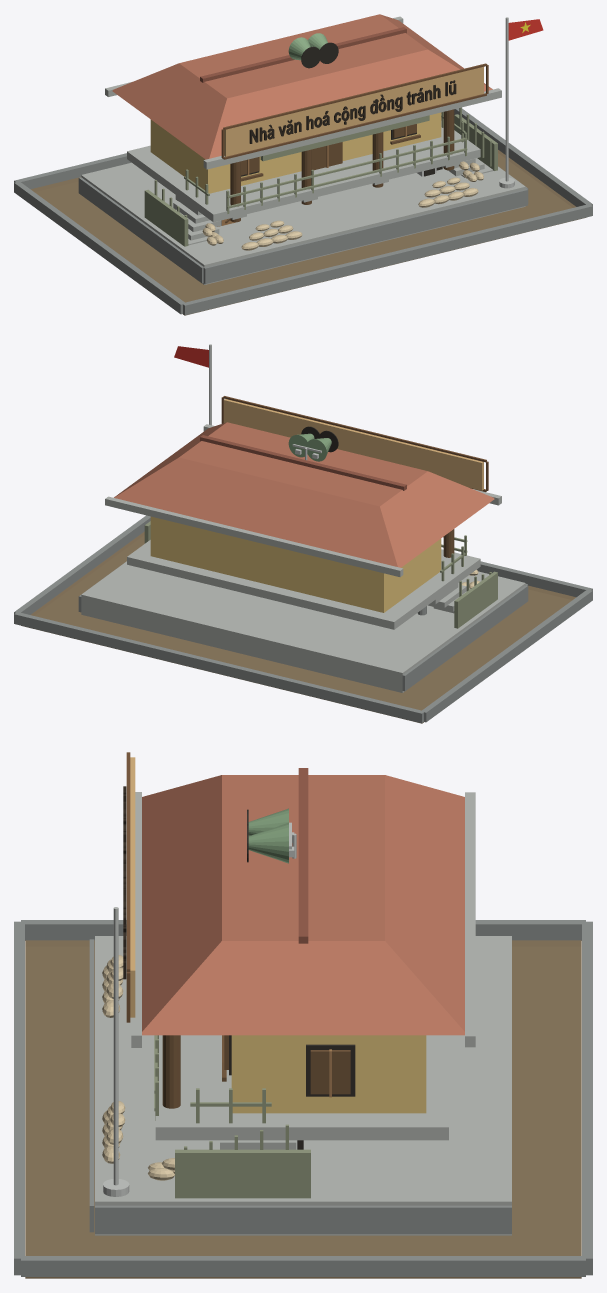
Rendered from CommuneOffice_Rural_A.fbx.
3 views of the same model, one above another, from view 1: azimuth 30°, elevation 25°; view 2: azimuth 150°, elevation 25°; view 3: azimuth 270°, elevation 25° (orthographic). The views are drawn at different scales.
Parts seen in each view (by area): view 1: reddish_brown_clay_tiled_hip_roof, raised_clean_rectangular_concrete_platform_center, murmky_brown_flood_water_majority_base_block, elevated_communal_house_concrete_floor_deck, roof_readable_sign_board_NhaVanHoaCongDongTranhLu, platform_dark_wet_side_front, outer_rim_front, community_building_ochre_plaster_body_centered, outer_rim_left, platform_dark_wet_side_left, front_roof_concrete_eave_fascia, roof_sign_text_Nha_van_hoa_cong_dong_tranh_lu_mesh (+16 smaller); view 2: reddish_brown_clay_tiled_hip_roof, raised_clean_rectangular_concrete_platform_center, murmky_brown_flood_water_majority_base_block, community_building_ochre_plaster_body_centered, elevated_communal_house_concrete_floor_deck, roof_readable_sign_board_NhaVanHoaCongDongTranhLu, outer_rim_back, rear_roof_concrete_eave_fascia, outer_rim_left, platform_dark_wet_side_left, outer_rim_right, roof_ridge_dark_red_cap (+4 smaller); view 3: reddish_brown_clay_tiled_hip_roof, murmky_brown_flood_water_majority_base_block, raised_clean_rectangular_concrete_platform_center, elevated_communal_house_concrete_floor_deck, community_building_ochre_plaster_body_centered, platform_dark_wet_side_right, outer_rim_right, right_side_stairs_outer_low_wall, outer_rim_left, outer_rim_back, outer_rim_front, rear_roof_concrete_eave_fascia (+12 smaller).
Boxes of the visible parts, box(x1,y1,x2,y2) form: reddish_brown_clay_tiled_hip_roof: box(112, 14, 492, 159); raised_clean_rectangular_concrete_platform_center: box(81, 162, 525, 284); murmky_brown_flood_water_majority_base_block: box(31, 112, 585, 315); elevated_communal_house_concrete_floor_deck: box(127, 121, 480, 222); roof_readable_sign_board_NhaVanHoaCongDongTranhLu: box(224, 66, 483, 156); platform_dark_wet_side_front: box(203, 189, 527, 284); outer_rim_front: box(183, 204, 592, 315); community_building_ochre_plaster_body_centered: box(150, 112, 441, 193); outer_rim_left: box(14, 182, 185, 314); platform_dark_wet_side_left: box(78, 177, 203, 283); front_roof_concrete_eave_fascia: box(203, 88, 501, 169); roof_sign_text_Nha_van_hoa_cong_dong_tranh_lu_mesh: box(249, 80, 456, 143); reddish_brown_clay_tiled_hip_roof: box(114, 422, 494, 567); raised_clean_rectangular_concrete_platform_center: box(81, 561, 525, 692); murmky_brown_flood_water_majority_base_block: box(21, 531, 575, 723); community_building_ochre_plaster_body_centered: box(150, 516, 441, 612); elevated_communal_house_concrete_floor_deck: box(127, 540, 480, 629); roof_readable_sign_board_NhaVanHoaCongDongTranhLu: box(224, 399, 483, 490); outer_rim_back: box(14, 612, 424, 723); rear_roof_concrete_eave_fascia: box(105, 496, 403, 576); outer_rim_left: box(422, 589, 592, 722); platform_dark_wet_side_left: box(402, 585, 528, 691); outer_rim_right: box(14, 515, 150, 614); roof_ridge_dark_red_cap: box(200, 435, 406, 490); reddish_brown_clay_tiled_hip_roof: box(142, 775, 464, 1035); murmky_brown_flood_water_majority_base_block: box(25, 940, 581, 1278); raised_clean_rectangular_concrete_platform_center: box(95, 936, 511, 1235); elevated_communal_house_concrete_floor_deck: box(155, 1035, 448, 1140); community_building_ochre_plaster_body_centered: box(231, 1035, 426, 1113); platform_dark_wet_side_right: box(95, 1205, 511, 1233); outer_rim_right: box(21, 1256, 585, 1276); right_side_stairs_outer_low_wall: box(175, 1149, 310, 1198); outer_rim_left: box(21, 920, 585, 940); outer_rim_back: box(582, 921, 592, 1275); outer_rim_front: box(14, 921, 24, 1275); rear_roof_concrete_eave_fascia: box(465, 792, 475, 1047).
Bounding box in the file's own units: 1334 × 598 × 958.
